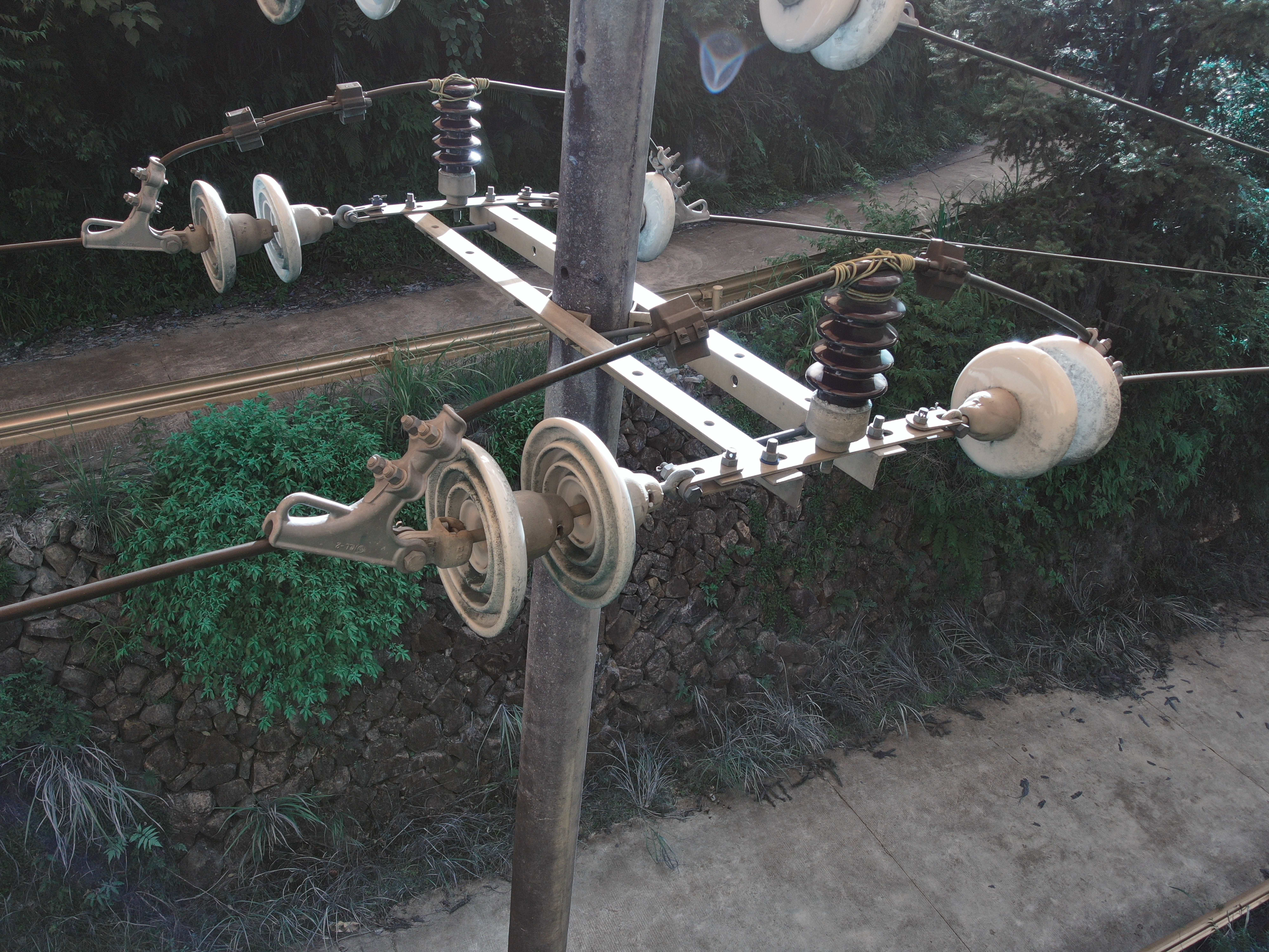severe_soiling_no_discharge_whole: (418, 412, 669, 637), (943, 327, 1128, 481), (186, 169, 339, 295), (755, 3, 903, 71)
